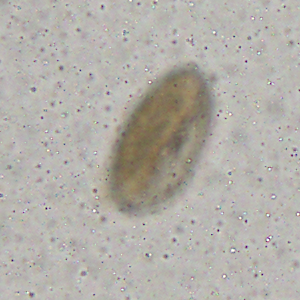Fasciola_hepatica_egg: (108, 61, 215, 217)
